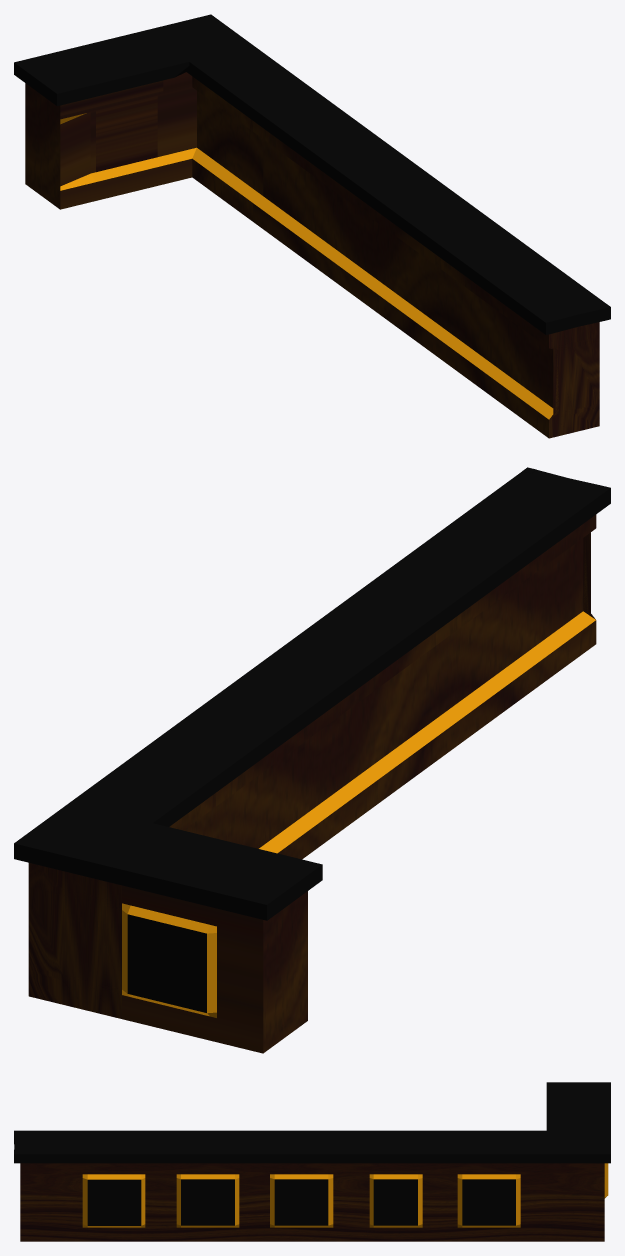
File: bar.glb
3 renders of one model, top to bottom at view 1: azimuth 30°, elevation 25°; view 2: azimuth 150°, elevation 25°; view 3: azimuth 270°, elevation 25°, orthographic. The views are drawn at different scales.
Parts seen in each view (by area): view 1: Cube; view 2: Cube; view 3: Cube.
Boxes of the visible parts, x1=… form: Cube: x1=14, y1=14, x2=610, y2=438; Cube: x1=14, y1=467, x2=610, y2=1053; Cube: x1=14, y1=1082, x2=610, y2=1241.
Bounding box in the file's own units: 5.43 × 3.17 × 19.09.
Materials: 3 (1 with a texture image).
